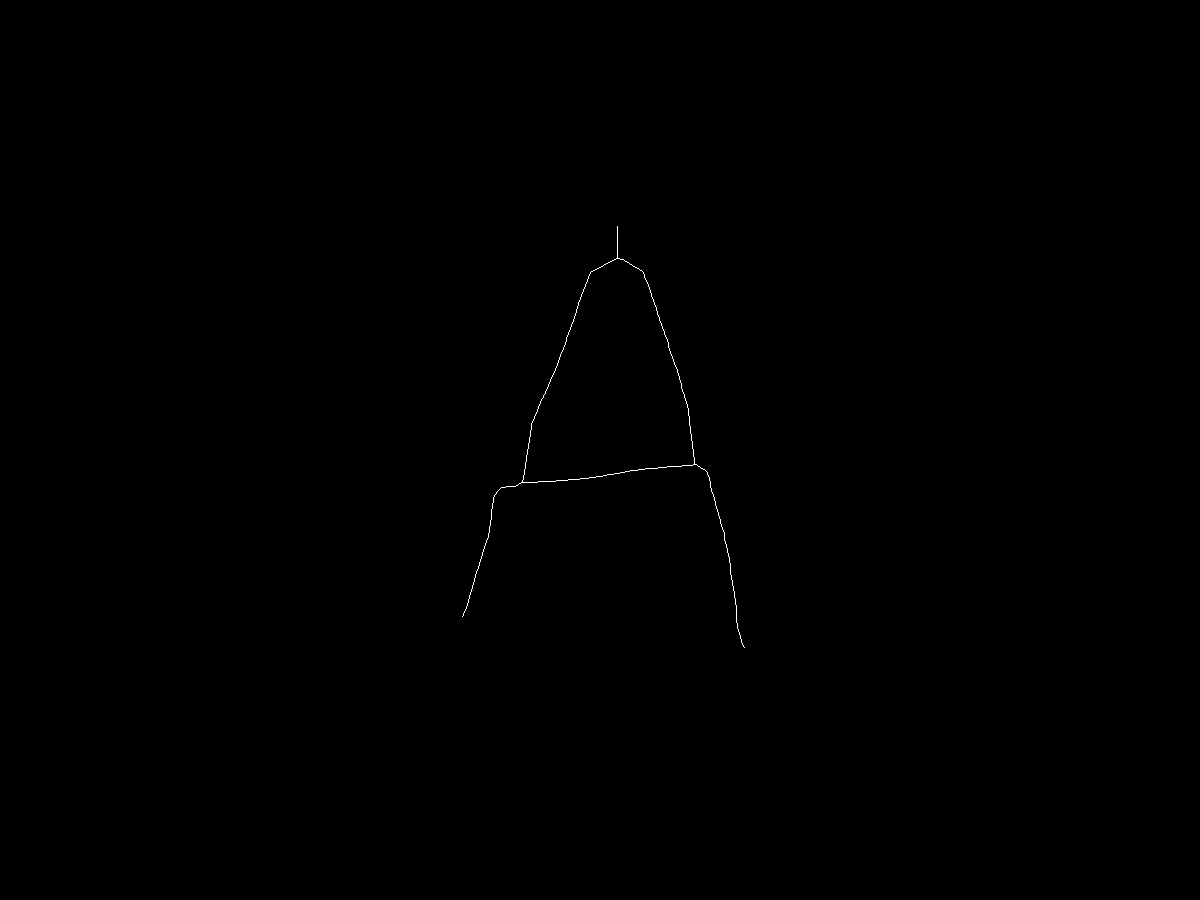dian1: (609, 253, 630, 274)
dian2: (517, 478, 531, 492)
dian3: (462, 604, 474, 616)
dian4: (687, 454, 706, 473)
dian5: (735, 635, 752, 652)
